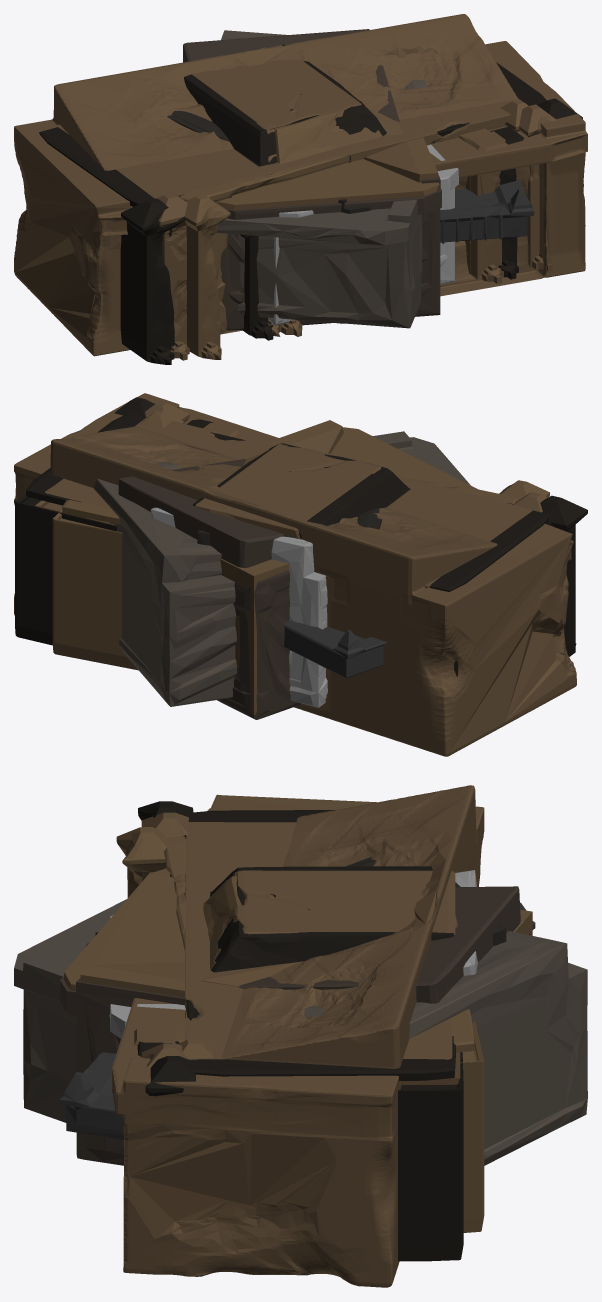
Rendered from Temple_buildings_coll.FBX.
The picture shows the model from 3 angles, top to bottom: view 1: azimuth 30°, elevation 25°; view 2: azimuth 150°, elevation 25°; view 3: azimuth 270°, elevation 25°; orthographic projection. The views are drawn at different scales.
Visible parts, largest first — view 1: Group38865, Group56399, Group63097, Group63178, Group26800, Group63094, Group63096, Group63095, Group21466, Group63107; view 2: Group38865, Group63097, Group56399, Group63178, Group26800, Group63094, Group63096, Group43936, Group63095, Group21466, Group63107; view 3: Group38865, Group63097, Group56399, Group63178, Group63094, Group63096, Group26800, Group63095, Group21466.
Part boxes in pixels (x1=…): Group38865: x1=14, y1=14, x2=587, y2=356; Group56399: x1=57, y1=45, x2=556, y2=360; Group63097: x1=216, y1=30, x2=427, y2=328; Group63178: x1=26, y1=44, x2=582, y2=364; Group26800: x1=180, y1=47, x2=528, y2=359; Group63094: x1=183, y1=29, x2=441, y2=330; Group63096: x1=217, y1=109, x2=439, y2=210; Group63095: x1=440, y1=179, x2=534, y2=243; Group21466: x1=268, y1=144, x2=458, y2=325; Group63107: x1=167, y1=111, x2=372, y2=323; Group38865: x1=14, y1=393, x2=576, y2=756; Group63097: x1=93, y1=431, x2=470, y2=706; Group56399: x1=35, y1=401, x2=547, y2=710; Group63178: x1=15, y1=397, x2=587, y2=676; Group26800: x1=52, y1=410, x2=549, y2=670; Group63094: x1=118, y1=430, x2=343, y2=719; Group63096: x1=220, y1=420, x2=477, y2=715; Group43936: x1=150, y1=507, x2=327, y2=707; Group63095: x1=282, y1=620, x2=386, y2=678; Group21466: x1=154, y1=507, x2=327, y2=705; Group63107: x1=197, y1=508, x2=382, y2=545; Group38865: x1=112, y1=785, x2=484, y2=1287; Group63097: x1=14, y1=899, x2=587, y2=1165; Group56399: x1=134, y1=812, x2=460, y2=1084; Group63178: x1=137, y1=801, x2=463, y2=1261; Group63094: x1=59, y1=874, x2=530, y2=1165; Group63096: x1=64, y1=868, x2=532, y2=997; Group26800: x1=116, y1=827, x2=484, y2=1232; Group63095: x1=59, y1=902, x2=535, y2=1139; Group21466: x1=110, y1=871, x2=471, y2=1038.
Bounding box in the file's own units: 2342 × 857 × 1867.
